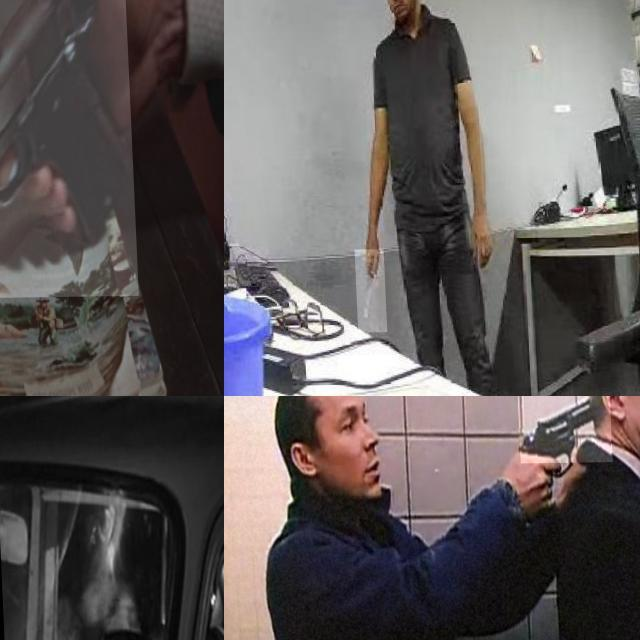-: (350, 250, 382, 333)
gun-knife-thesis - v11 Yolov5 augmented: (0, 0, 136, 300), (516, 396, 611, 464)
